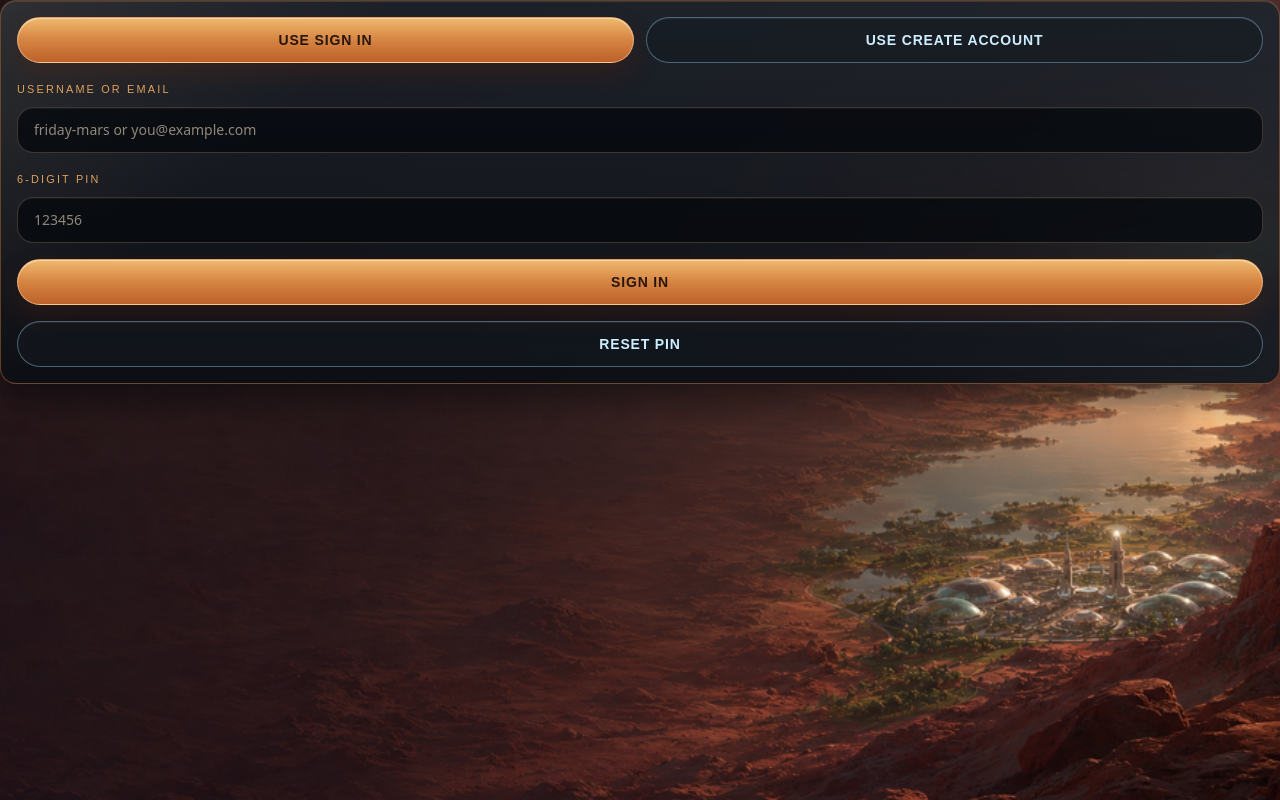
Test: LoginForm › requests a pin reset with the typed username or email and shows the generic success message
The width and height of the screenshot is (1280, 800).
Step 1. Type "Friday Mars" into the field labelled "Username or Email" → (640, 130), box [17,107,1263,153]
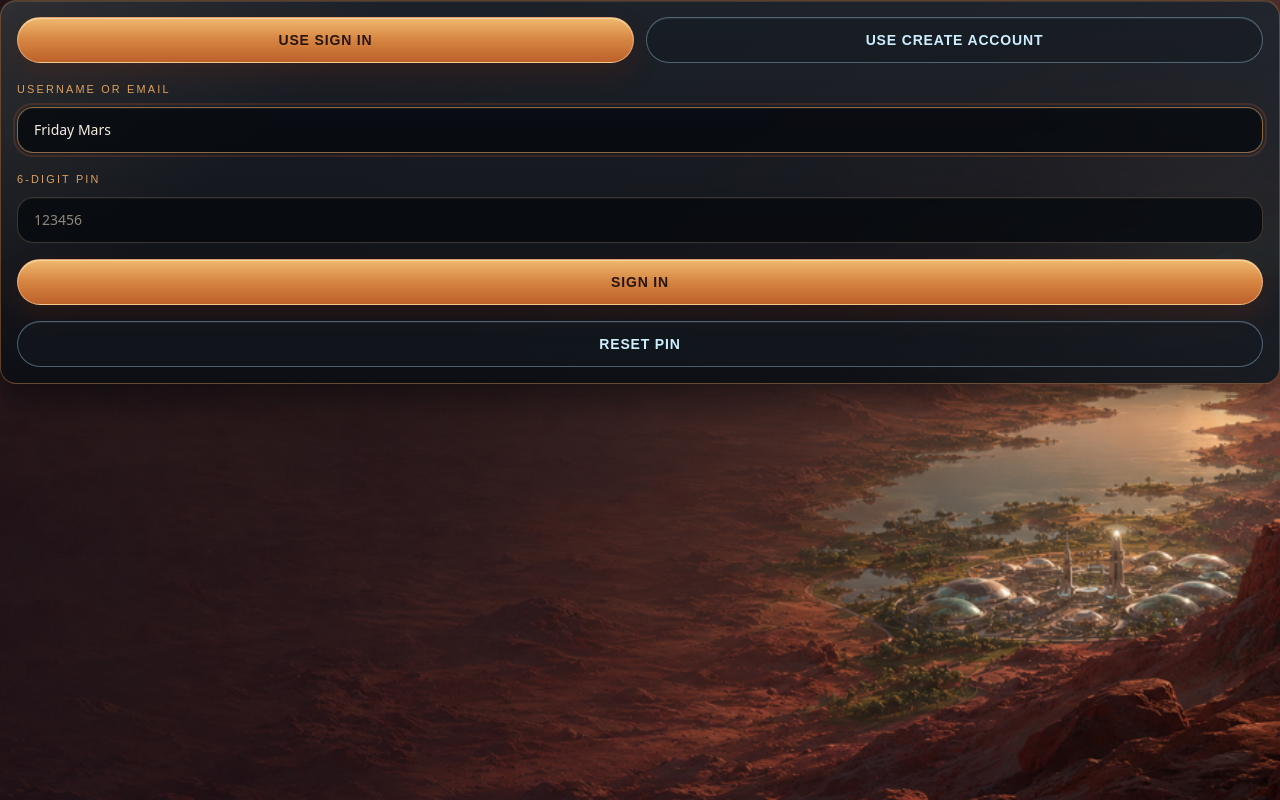
Step 2. Click the button "Reset PIN" → (640, 344), box [17,321,1263,367]
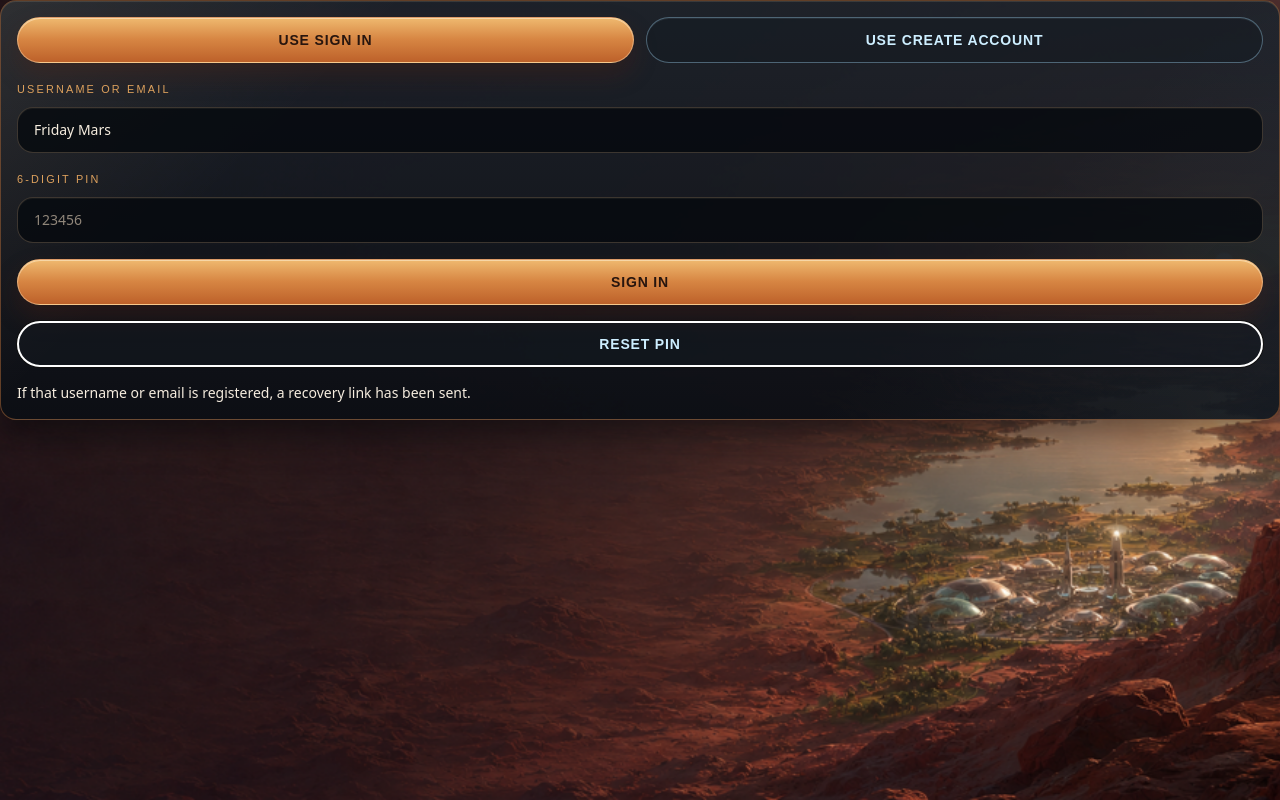
Check: the text "If that username or email is registered, a recovery link has been sent." is shown, box [17,383,471,402]
